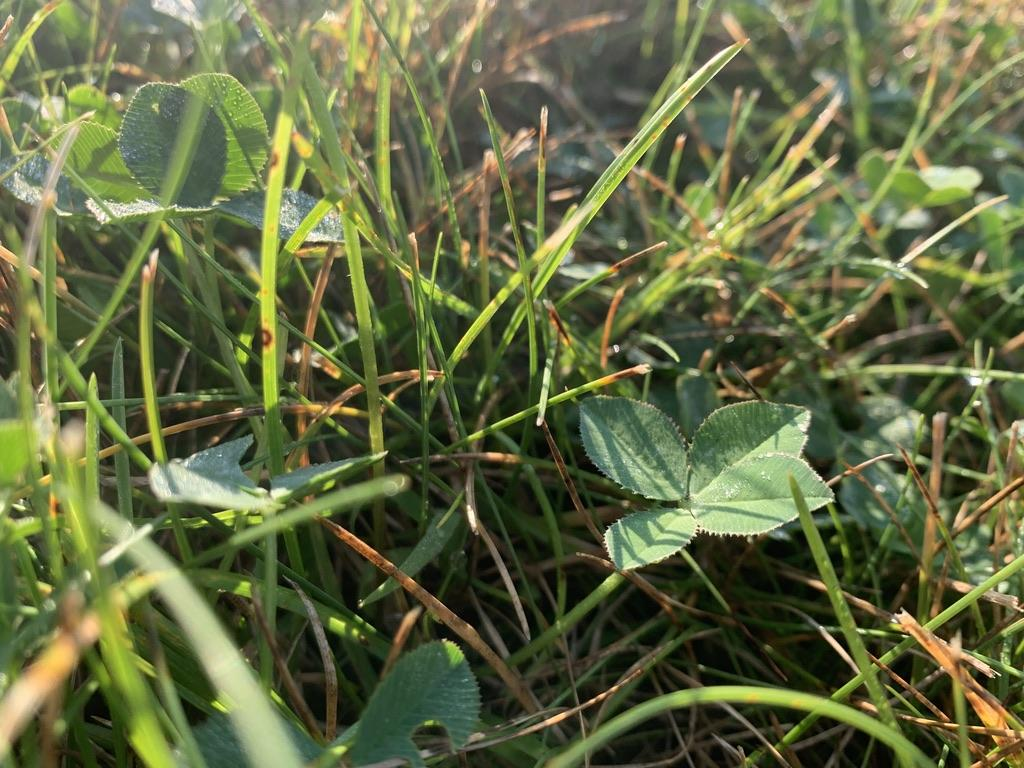4-Leaf-Clovers: (575, 392, 833, 566)
